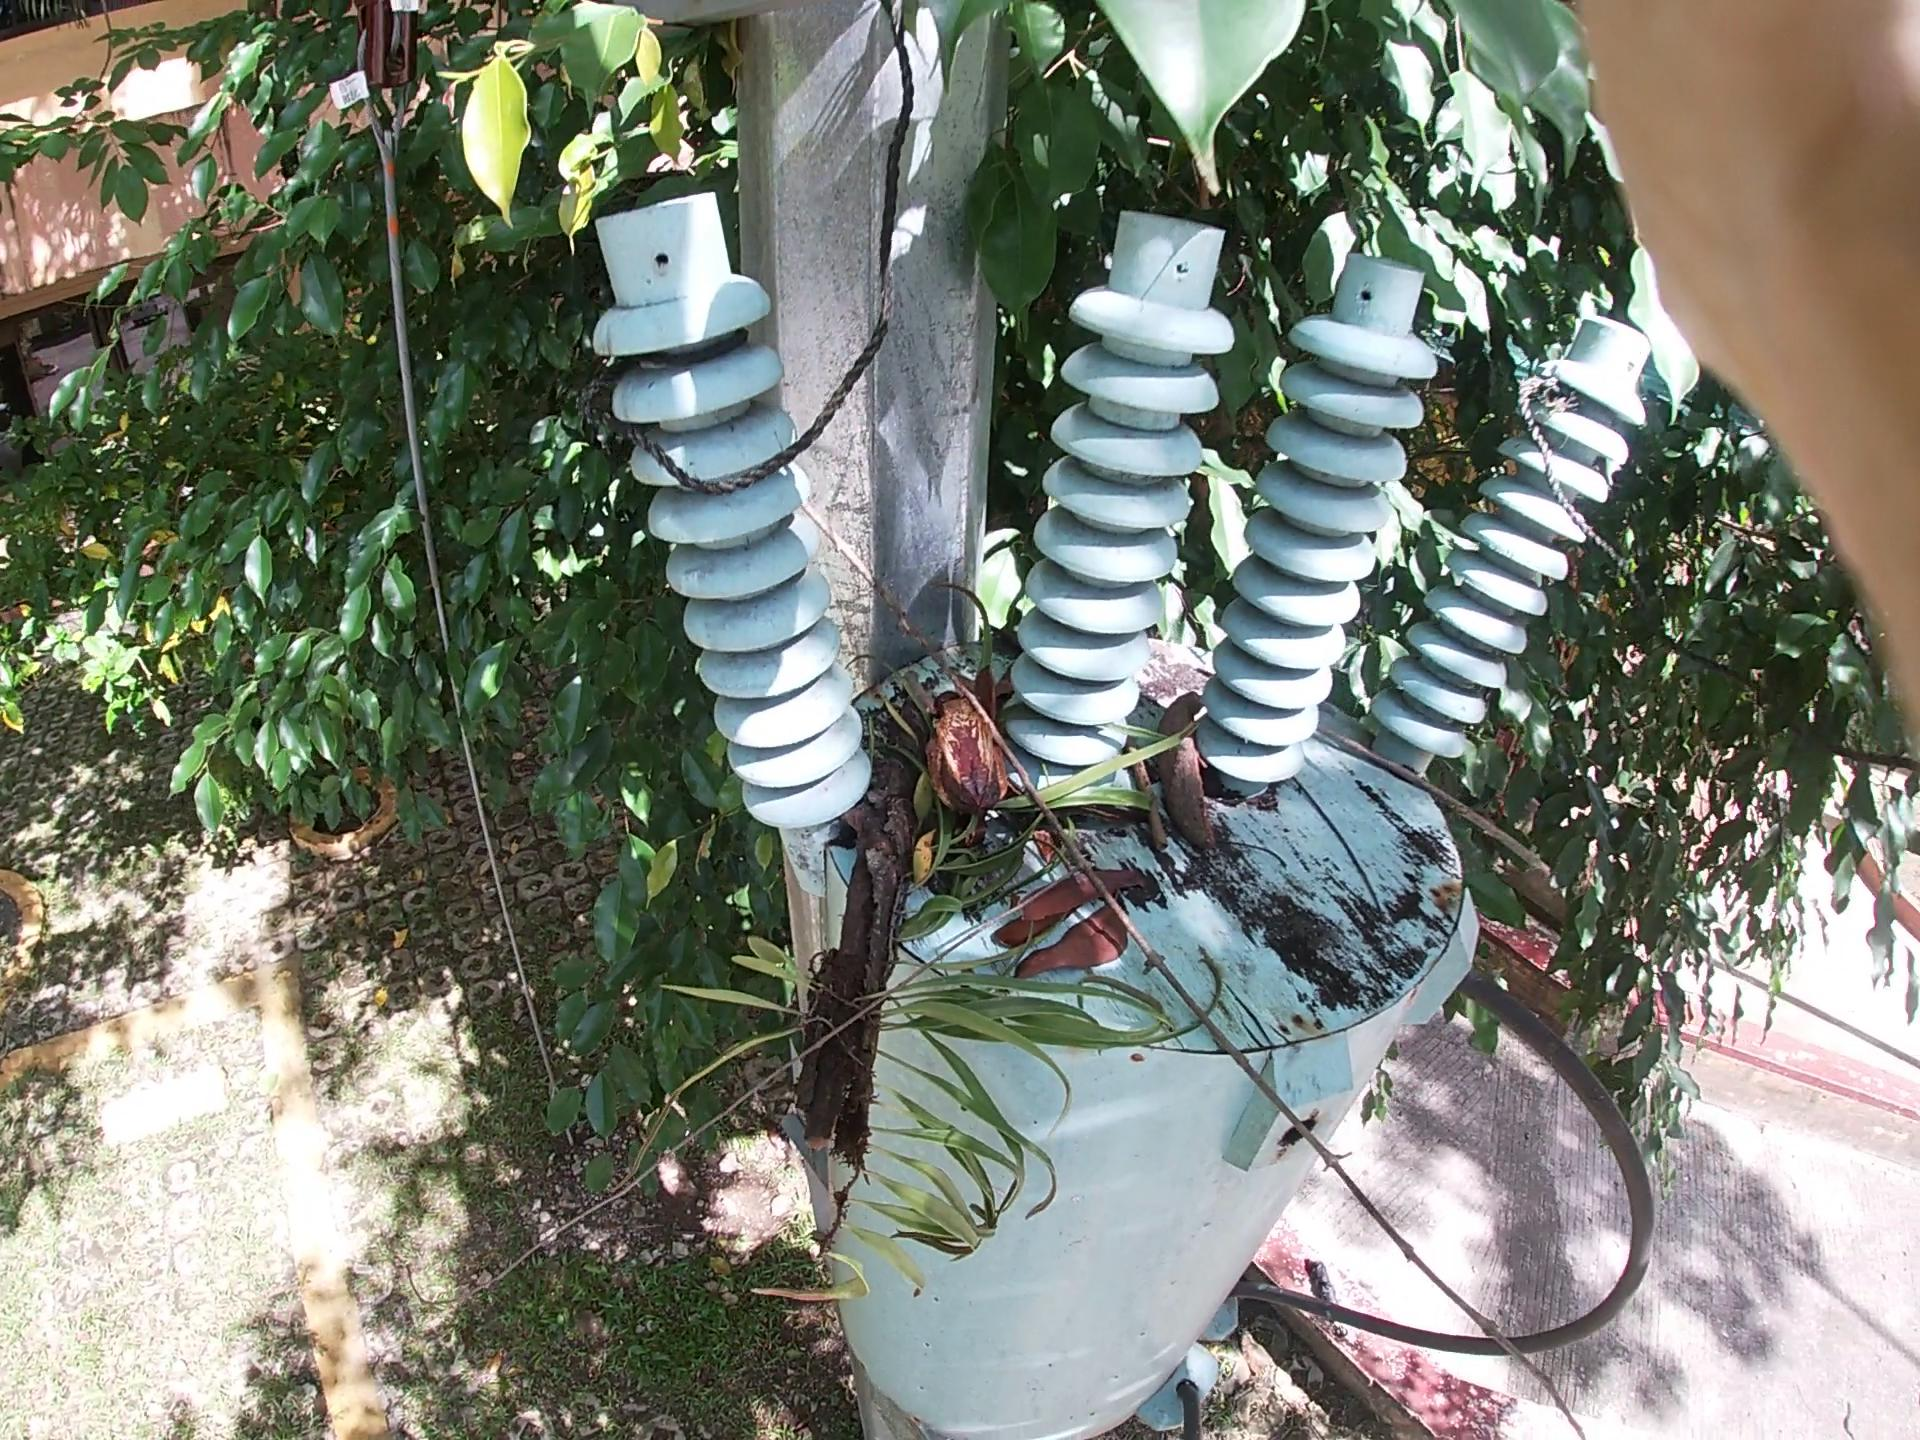branch with leaves: (791, 464, 907, 1251)
leaf: (1014, 833, 1214, 985)
mahogany fruit: (918, 564, 1052, 853), (1170, 650, 1253, 944)
tree branch: (782, 479, 1686, 1440), (1249, 611, 1625, 933), (1123, 629, 1240, 905)
